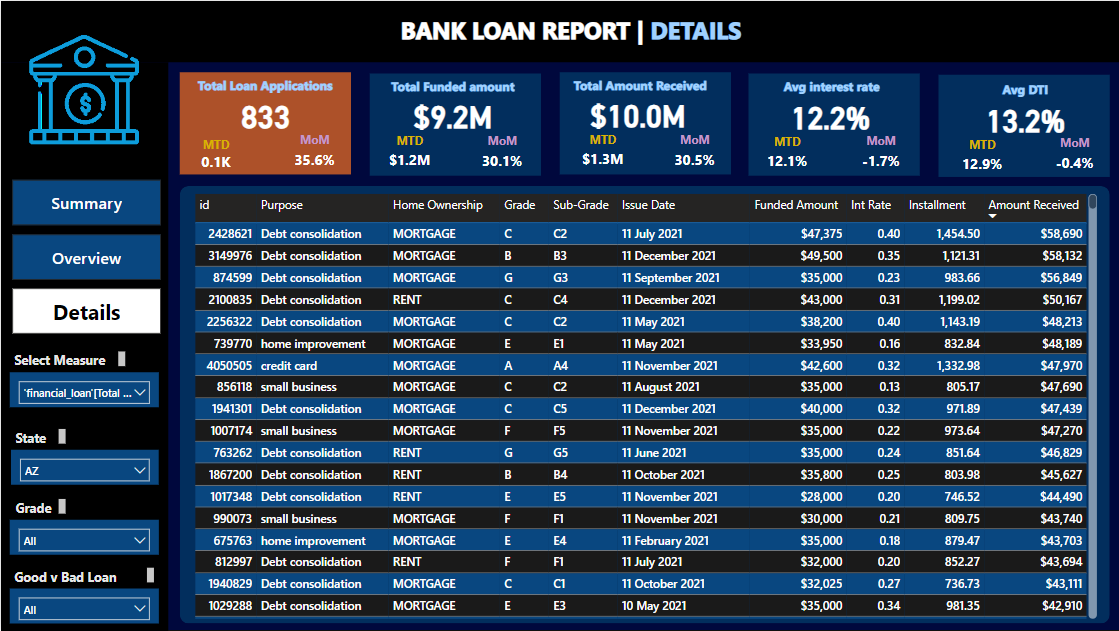

The page's visual inventory and layout, read from the dashboard file:
{"tool":"powerbi","page":{"name":"Details","canvas":[1280,720],"ordinal":2},"visuals":[{"type":"shape","box":[0,0,1280,70],"z":0},{"type":"shape","box":[0,70,191.4,650],"z":1000},{"type":"textbox","box":[387.1,10,528.6,51.4],"z":2000},{"type":"shape","box":[204.3,81.4,195.7,117.1],"z":3000},{"type":"card","fields":{"Values":["financial_loan.Total Loan Applications"]},"box":[244.3,97.1,117.1,65.7],"z":4000},{"type":"textbox","box":[215.7,81.4,172.9,30],"z":5000},{"type":"card","title":"MTD","fields":{"Values":["financial_loan.MTD Loan Applications"]},"box":[215.7,154.3,60,45.7],"z":6000},{"type":"card","title":"MoM","fields":{"Values":["financial_loan.MoM Loan Applications"]},"box":[328.6,148.6,60,51.4],"z":7000},{"type":"shape","box":[421.1,82.3,195.7,117.1],"z":8000},{"type":"card","fields":{"Values":["financial_loan.Total Funded Amount"]},"box":[444.3,97.1,144.3,65.7],"z":9000},{"type":"textbox","box":[430.3,82.3,172.9,30],"z":10000},{"type":"card","title":"MTD","fields":{"Values":["financial_loan.MTD Funded Amount"]},"box":[430,150,74.3,50],"z":11000},{"type":"card","title":"MoM","fields":{"Values":["financial_loan.MoM Total Funded Amount"]},"box":[543.1,149.4,60,51.4],"z":12000},{"type":"shape","box":[1071.7,84.3,195.7,117.1],"z":13000},{"type":"card","fields":{"Values":["financial_loan.Avg DTI"]},"box":[1098.3,100.9,144.3,65.7],"z":14000},{"type":"textbox","box":[1084.3,86,172.9,30],"z":15000},{"type":"card","title":"MTD","fields":{"Values":["financial_loan.MTD Avg DTI"]},"box":[1084,153.7,74.3,50],"z":16000},{"type":"card","title":"MoM","fields":{"Values":["financial_loan.MoM Avg DIT"]},"box":[1197.1,153.1,60,51.4],"z":17000},{"type":"shape","box":[638,80.9,195.7,117.1],"z":18000},{"type":"card","fields":{"Values":["financial_loan.Total Amount Received"]},"box":[658.6,95.7,138.6,65.7],"z":19000},{"type":"textbox","box":[644.9,80.9,172.9,30],"z":20000},{"type":"card","title":"MTD","fields":{"Values":["financial_loan.MTD Amount Received"]},"box":[644.3,148.6,87.1,50],"z":21000},{"type":"card","title":"MoM","fields":{"Values":["financial_loan.MoM Amount Received"]},"box":[757.1,148.6,71.4,51.4],"z":22000},{"type":"shape","box":[854.9,83.4,195.7,117.1],"z":23000},{"type":"card","fields":{"Values":["financial_loan.Avg Interest Rate"]},"box":[876.3,98.3,144.3,65.7],"z":24000},{"type":"textbox","box":[862.3,83.4,172.9,30],"z":25000},{"type":"card","title":"MTD","fields":{"Values":["financial_loan.MTD Avg Int Rate"]},"box":[862,151.1,74.3,50],"z":26000},{"type":"card","title":"MoM","fields":{"Values":["financial_loan.MoM Avg Int Rate"]},"box":[975.1,150.6,60,51.4],"z":27000},{"type":"slicer","fields":{"Values":["financial_loan.address_state"]},"box":[11.4,512.9,168.6,40],"z":29000},{"type":"textbox","box":[11.4,484.3,67.1,28.6],"z":30000},{"type":"slicer","fields":{"Values":["financial_loan.grade"]},"box":[10,592.9,170,40],"z":31000},{"type":"textbox","box":[11.4,564.3,67.1,28.6],"z":32000},{"type":"textbox","box":[10,642.9,170,28.6],"z":33000},{"type":"slicer","fields":{"Values":["financial_loan.Good v Bad Loan"]},"box":[10,671.4,170,40],"z":34000},{"type":"slicer","fields":{"Values":["Select Measures.Select Measures"]},"box":[10,424.3,170,40],"z":36000},{"type":"textbox","box":[10,395.7,137.1,28.6],"z":37000},{"type":"shape","box":[204.3,211.4,1062.9,500],"z":38000},{"type":"tableEx","fields":{"Values":["Sum(financial_loan.id)","financial_loan.purpose","financial_loan.home_ownership","financial_loan.grade","financial_loan.sub_grade","financial_loan.issue_date","financial_loan.Total Funded Amount","Sum(financial_loan.int_rate)","Sum(financial_loan.installment)","financial_loan.Total Amount Received"]},"box":[215.7,215.7,1041.4,495.7],"z":38001},{"type":"image","box":[25.7,31.4,138.6,140],"z":38002},{"type":"pageNavigator","box":[12.9,204.3,170,178.6],"z":38003}]}

Visuals, with their boxes in screenshot pixels (x1, y1, x2, y2), scaled from the page's 1280x720 canvas onto the 1119x631 screenshot:
shape: {"x1": 0, "y1": 0, "x2": 1118, "y2": 61}
shape: {"x1": 0, "y1": 61, "x2": 167, "y2": 630}
textbox: {"x1": 338, "y1": 9, "x2": 801, "y2": 54}
shape: {"x1": 179, "y1": 71, "x2": 350, "y2": 174}
card - financial_loan.Total Loan Applications: {"x1": 214, "y1": 85, "x2": 316, "y2": 143}
textbox: {"x1": 189, "y1": 71, "x2": 340, "y2": 98}
"MTD" card: {"x1": 189, "y1": 135, "x2": 241, "y2": 175}
"MoM" card: {"x1": 287, "y1": 130, "x2": 340, "y2": 175}
shape: {"x1": 368, "y1": 72, "x2": 539, "y2": 175}
card - financial_loan.Total Funded Amount: {"x1": 388, "y1": 85, "x2": 515, "y2": 143}
textbox: {"x1": 376, "y1": 72, "x2": 527, "y2": 98}
"MTD" card: {"x1": 376, "y1": 131, "x2": 441, "y2": 175}
"MoM" card: {"x1": 475, "y1": 131, "x2": 527, "y2": 176}
shape: {"x1": 937, "y1": 74, "x2": 1108, "y2": 177}
card - financial_loan.Avg DTI: {"x1": 960, "y1": 88, "x2": 1086, "y2": 146}
textbox: {"x1": 948, "y1": 75, "x2": 1099, "y2": 102}
"MTD" card: {"x1": 948, "y1": 135, "x2": 1013, "y2": 179}
"MoM" card: {"x1": 1047, "y1": 134, "x2": 1099, "y2": 179}
shape: {"x1": 558, "y1": 71, "x2": 729, "y2": 174}
card - financial_loan.Total Amount Received: {"x1": 576, "y1": 84, "x2": 697, "y2": 141}
textbox: {"x1": 564, "y1": 71, "x2": 715, "y2": 97}
"MTD" card: {"x1": 563, "y1": 130, "x2": 639, "y2": 174}
"MoM" card: {"x1": 662, "y1": 130, "x2": 724, "y2": 175}
shape: {"x1": 747, "y1": 73, "x2": 918, "y2": 176}
card - financial_loan.Avg Interest Rate: {"x1": 766, "y1": 86, "x2": 892, "y2": 144}
textbox: {"x1": 754, "y1": 73, "x2": 905, "y2": 99}
"MTD" card: {"x1": 754, "y1": 132, "x2": 819, "y2": 176}
"MoM" card: {"x1": 852, "y1": 132, "x2": 905, "y2": 177}
slicer - financial_loan.address_state: {"x1": 10, "y1": 449, "x2": 157, "y2": 485}
textbox: {"x1": 10, "y1": 424, "x2": 69, "y2": 449}
slicer - financial_loan.grade: {"x1": 9, "y1": 520, "x2": 157, "y2": 555}
textbox: {"x1": 10, "y1": 495, "x2": 69, "y2": 520}
textbox: {"x1": 9, "y1": 563, "x2": 157, "y2": 588}
slicer - financial_loan.Good v Bad Loan: {"x1": 9, "y1": 588, "x2": 157, "y2": 623}
slicer - Select Measures.Select Measures: {"x1": 9, "y1": 372, "x2": 157, "y2": 407}
textbox: {"x1": 9, "y1": 347, "x2": 129, "y2": 372}
shape: {"x1": 179, "y1": 185, "x2": 1108, "y2": 623}
tableEx - Sum(financial_loan.id) x financial_loan.purpose: {"x1": 189, "y1": 189, "x2": 1099, "y2": 623}
image: {"x1": 22, "y1": 28, "x2": 144, "y2": 150}
pageNavigator: {"x1": 11, "y1": 179, "x2": 160, "y2": 336}
